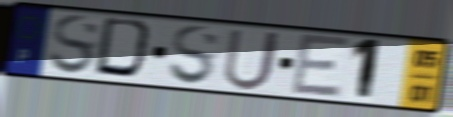1: (348, 37, 383, 105)
D: (91, 15, 159, 83)
E: (289, 31, 352, 99)
S: (47, 13, 102, 78), (167, 24, 222, 89)
U: (220, 27, 284, 93)
